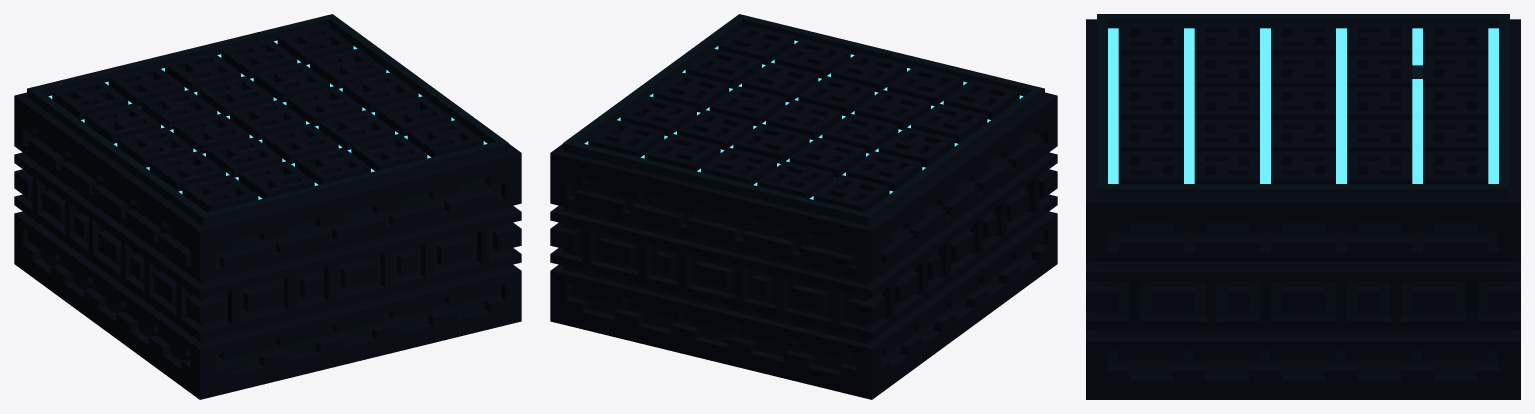
The model's file is Block_2.glb.
3 views of the same model, side by side, from view 1: azimuth 30°, elevation 25°; view 2: azimuth 150°, elevation 25°; view 3: azimuth 270°, elevation 25° (orthographic). The views are drawn at different scales.
Visible parts, largest first — view 1: Block_2; view 2: Block_2; view 3: Block_2.
Part boxes in pixels (x1,y1,x2,y2): Block_2: (14,14,521,399); Block_2: (550,14,1057,399); Block_2: (1086,14,1520,399).
Size of the model in its own units: 1 by 0.525 by 1.
